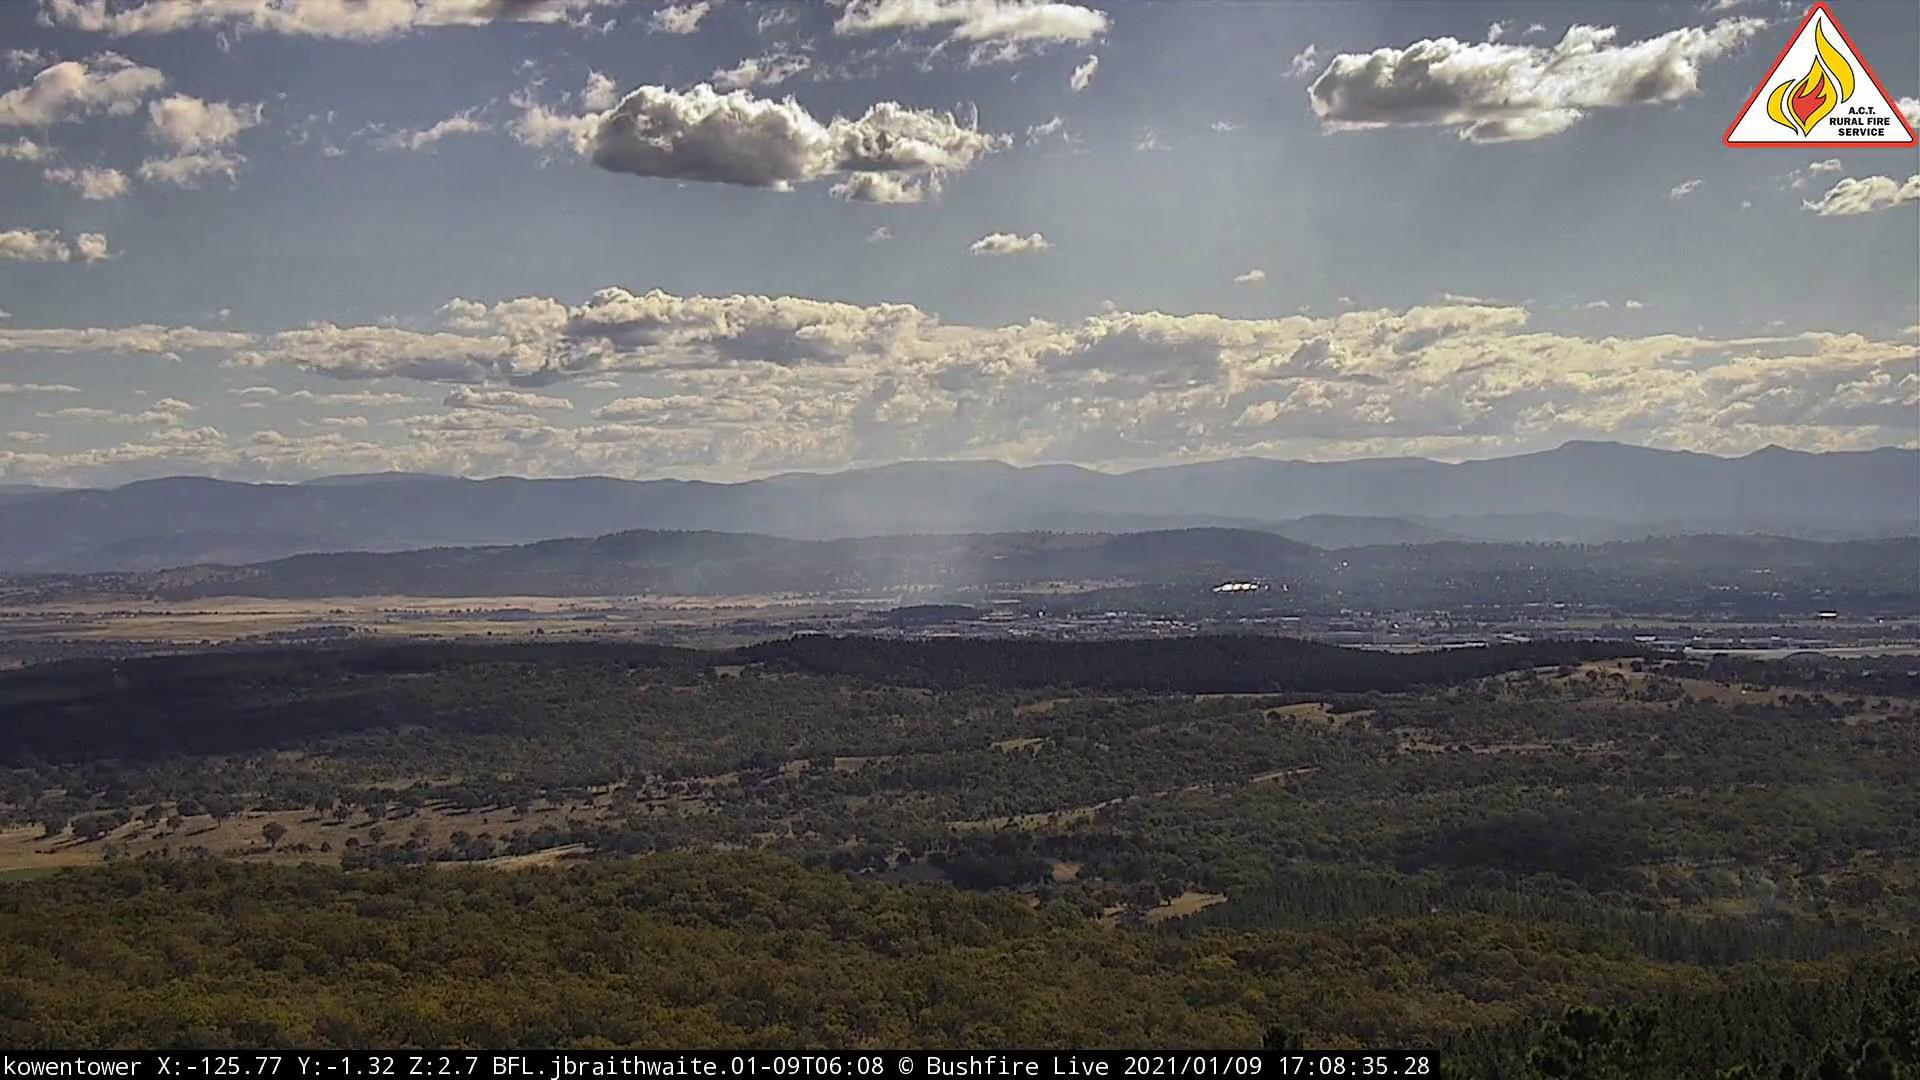Smoke: (843, 484, 1058, 597)
